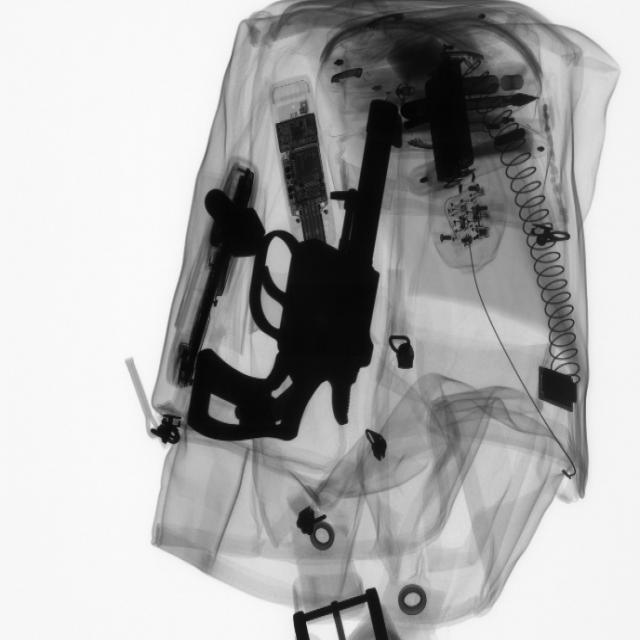GUN: (196, 120, 396, 450)
